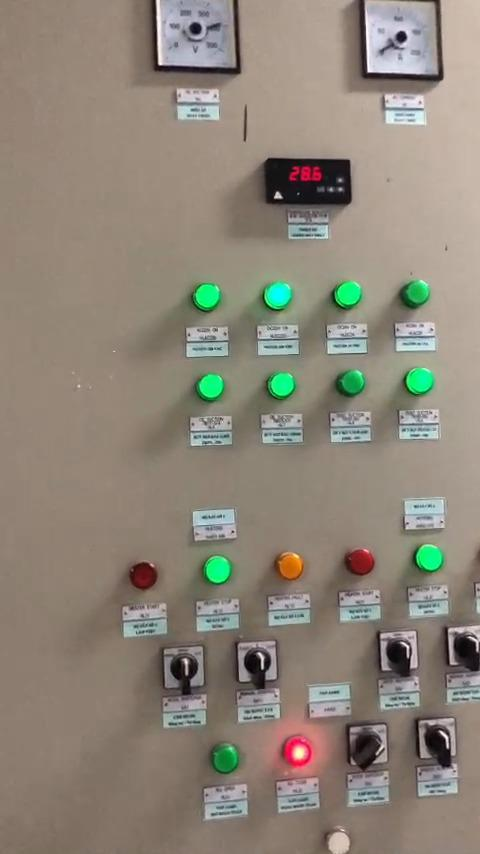led: (210, 745, 244, 778), (125, 559, 158, 589), (279, 741, 310, 771), (399, 279, 429, 309), (345, 548, 374, 578), (260, 283, 290, 311), (405, 366, 433, 396), (417, 542, 444, 572), (274, 551, 301, 581), (193, 284, 220, 313), (337, 370, 364, 399), (333, 284, 361, 310), (203, 558, 229, 586), (268, 374, 296, 399), (200, 376, 226, 401), (323, 829, 351, 852)
twist: (162, 646, 204, 691), (348, 728, 388, 772), (237, 641, 275, 685), (378, 633, 418, 674), (419, 719, 455, 761), (443, 630, 480, 670)
